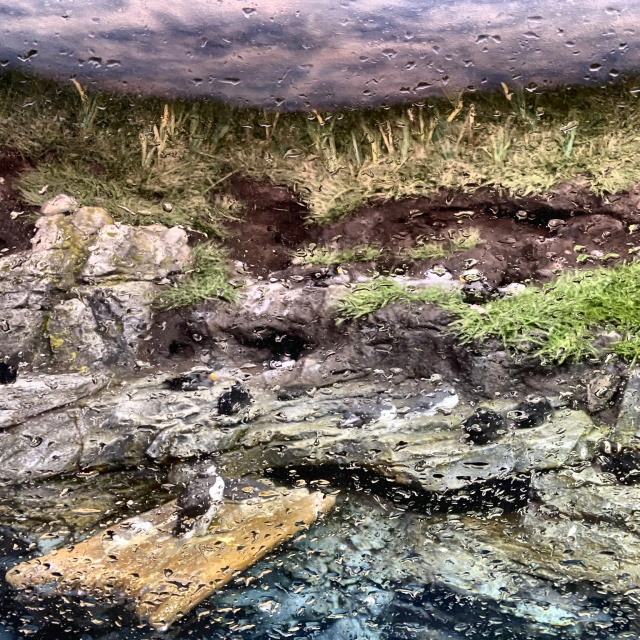puffin: (172, 464, 229, 539), (507, 393, 555, 428), (599, 441, 639, 481), (463, 406, 507, 442), (220, 477, 276, 503), (162, 369, 220, 391), (217, 380, 252, 414), (462, 274, 502, 303), (309, 265, 351, 287), (268, 352, 296, 371)
